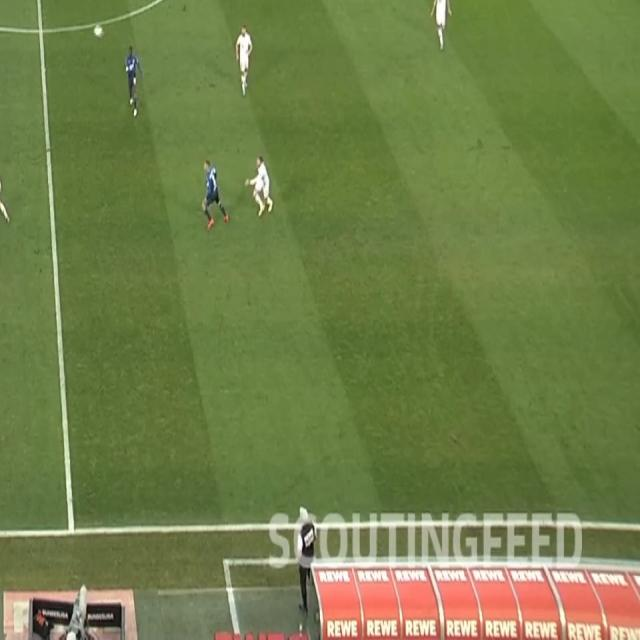ball: (92, 24, 104, 39)
